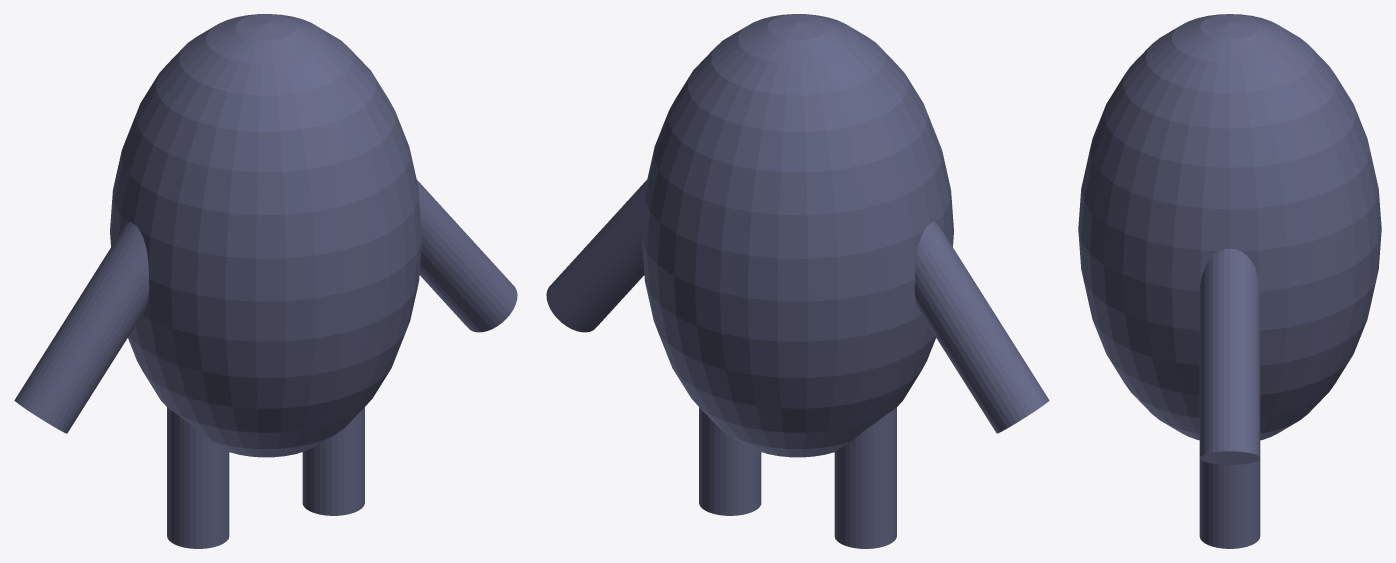
The model's file is tamer_2.glb.
The picture shows the model from 3 angles, left to right: view 1: azimuth 30°, elevation 25°; view 2: azimuth 150°, elevation 25°; view 3: azimuth 270°, elevation 25°; orthographic projection. The views are drawn at different scales.
Visible parts, largest first — view 1: Sphere, Cylinder.003, Cylinder.002, Cylinder.001, Cylinder; view 2: Sphere, Cylinder.003, Cylinder.002, Cylinder.001, Cylinder; view 3: Sphere, Cylinder.002, Cylinder.
Boxes of the visible parts, left/top/right/bottom form: Sphere: left=110, top=14, right=421, bottom=457; Cylinder.003: left=14, top=222, right=149, bottom=433; Cylinder.002: left=416, top=179, right=517, bottom=332; Cylinder.001: left=167, top=407, right=229, bottom=548; Cylinder: left=302, top=407, right=364, bottom=515; Sphere: left=642, top=14, right=953, bottom=457; Cylinder.003: left=914, top=222, right=1049, bottom=433; Cylinder.002: left=546, top=179, right=647, bottom=332; Cylinder.001: left=834, top=407, right=896, bottom=548; Cylinder: left=699, top=407, right=761, bottom=515; Sphere: left=1078, top=14, right=1381, bottom=440; Cylinder.002: left=1199, top=249, right=1260, bottom=464; Cylinder: left=1199, top=459, right=1260, bottom=548.
Bounding box in the file's own units: 1.82 × 1.75 × 1.
